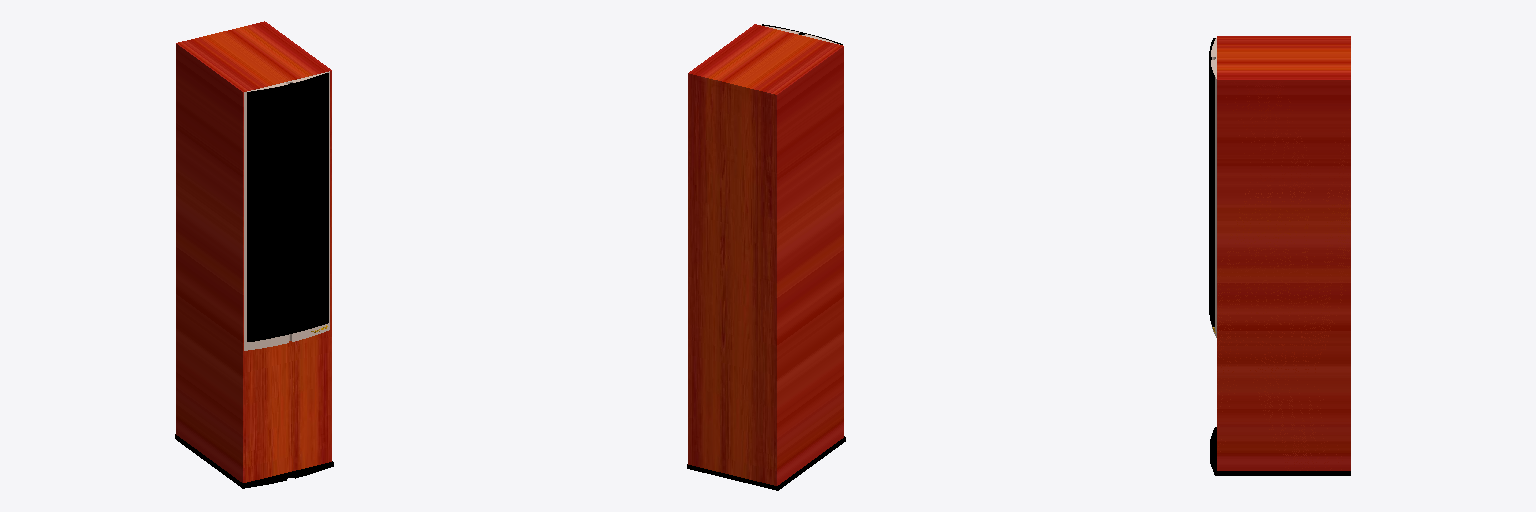
The picture shows the model from 3 angles: view 1: azimuth 30°, elevation 25°; view 2: azimuth 150°, elevation 25°; view 3: azimuth 270°, elevation 25°; orthographic projection.
Visible parts, largest first — view 1: Cube_2_1, Boolean_6_2, Boolean_1_14, Boolean_10_3; view 2: Cube_2_1, Boolean_10_3; view 3: Cube_2_1, Boolean_6_2, Boolean_10_3, Boolean_1_14.
Part boxes in pixels (x1,y1,x2,y2): Cube_2_1: (176,21,331,482); Boolean_6_2: (247,73,328,341); Boolean_1_14: (244,71,329,350); Boolean_10_3: (175,434,333,488); Cube_2_1: (688,24,843,485); Boolean_10_3: (687,436,845,490); Cube_2_1: (1217,36,1350,470); Boolean_6_2: (1209,38,1215,326); Boolean_10_3: (1210,427,1350,475); Boolean_1_14: (1211,38,1216,337).
Size of the model in its own units: 22 by 91 by 29.62.
4 materials, 1 textured.